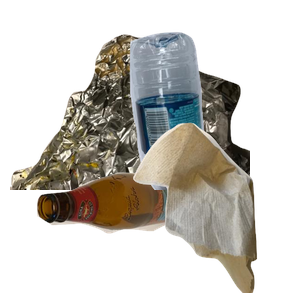glass: (34, 170, 223, 300)
metal: (10, 32, 250, 212)
plastic: (127, 29, 300, 209)
trash: (131, 120, 300, 300)
